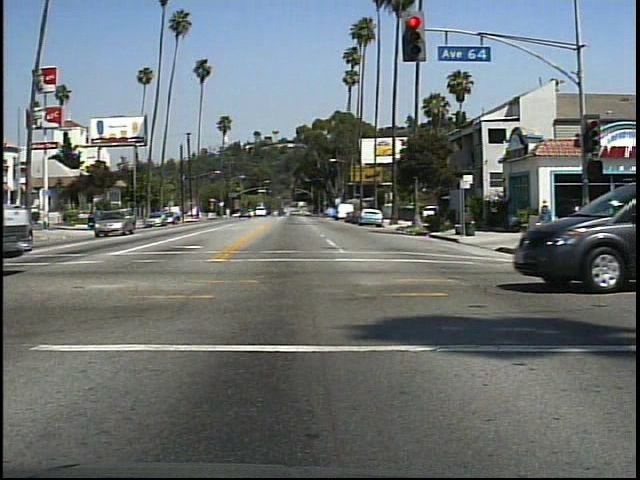person: (535, 194, 562, 229)
